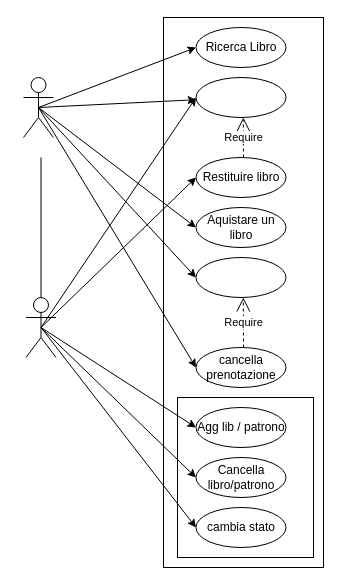
This 341x585 diagram has some shape labels left out. The shapes that lost their labels are listed below. From the top down, each one's centre as x and y in pixels, then its label:
At pixel 38 107: "Patrono".
At pixel 240 97: "prendere in prestito".
At pixel 240 277: "Prenotare posto".
At pixel 40 327: "Admin".
